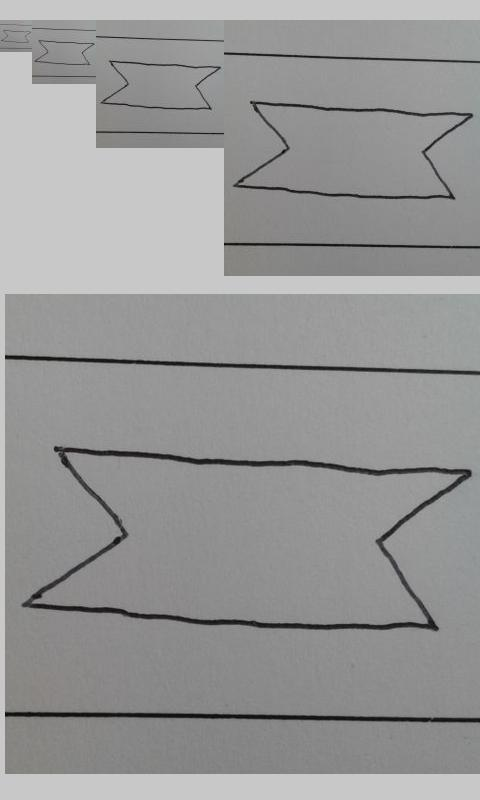edit_text: (18, 441, 469, 635), (232, 99, 474, 202), (100, 59, 220, 111), (34, 40, 94, 66), (1, 29, 31, 44)
